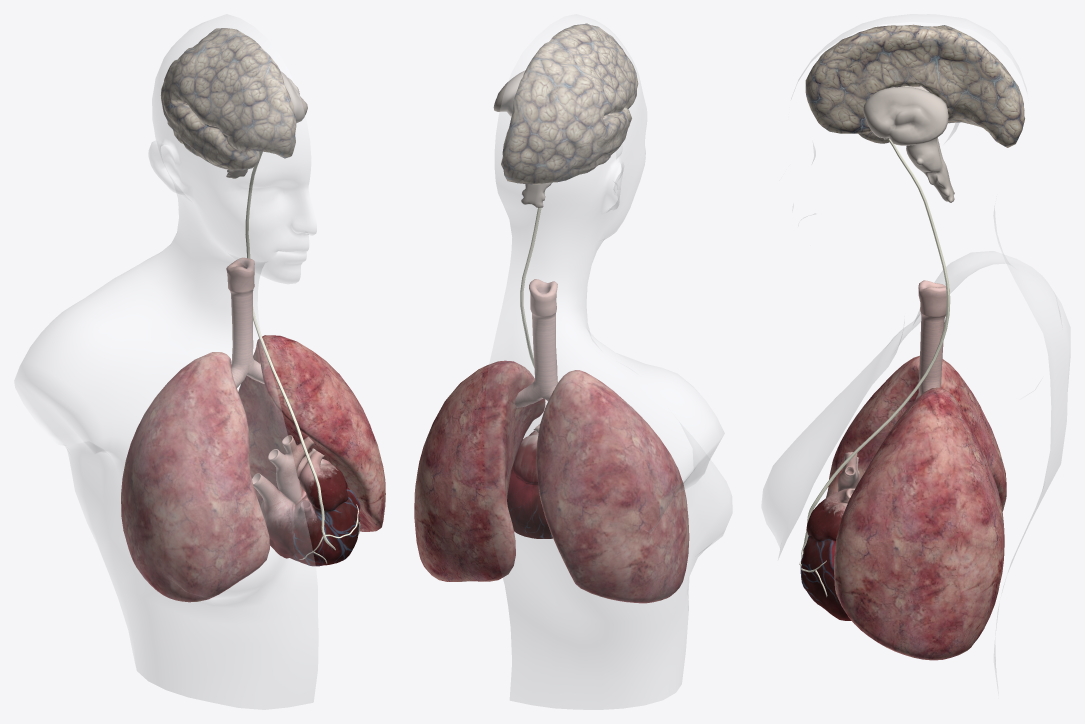
File: human_stress_v01.glb
The picture shows the model from 3 angles, left to right: view 1: azimuth 30°, elevation 25°; view 2: azimuth 150°, elevation 25°; view 3: azimuth 270°, elevation 25°; orthographic projection. The views are drawn at different scales.
Visible parts, largest first — view 1: mesh_body, mesh_lungs, mesh_brain, mesh_heart, mesh_trachea, mesh_mid_brain; view 2: mesh_body, mesh_lungs, mesh_brain, mesh_heart, mesh_trachea, mesh_mid_brain; view 3: mesh_lungs, mesh_brain, mesh_body, mesh_heart, mesh_mid_brain, mesh_trachea.
Part boxes in pixels (x1,y1,x2,y2): mesh_body: [14, 14, 318, 709]; mesh_lungs: [121, 335, 385, 602]; mesh_brain: [160, 28, 296, 170]; mesh_heart: [245, 151, 360, 566]; mesh_trachea: [226, 257, 264, 388]; mesh_mid_brain: [226, 71, 307, 178]; mesh_body: [485, 14, 732, 709]; mesh_lungs: [414, 360, 689, 603]; mesh_brain: [501, 23, 638, 184]; mesh_heart: [507, 190, 552, 538]; mesh_trachea: [515, 279, 557, 407]; mesh_mid_brain: [493, 70, 552, 207]; mesh_lungs: [826, 355, 1006, 660]; mesh_brain: [805, 24, 1024, 147]; mesh_body: [761, 14, 1070, 692]; mesh_heart: [799, 138, 950, 620]; mesh_mid_brain: [863, 86, 954, 202]; mesh_trachea: [915, 280, 949, 399].
Size of the model in its own units: 0.3191 by 0.6217 by 0.2536.
Materials: 3 (1 with a texture image).
